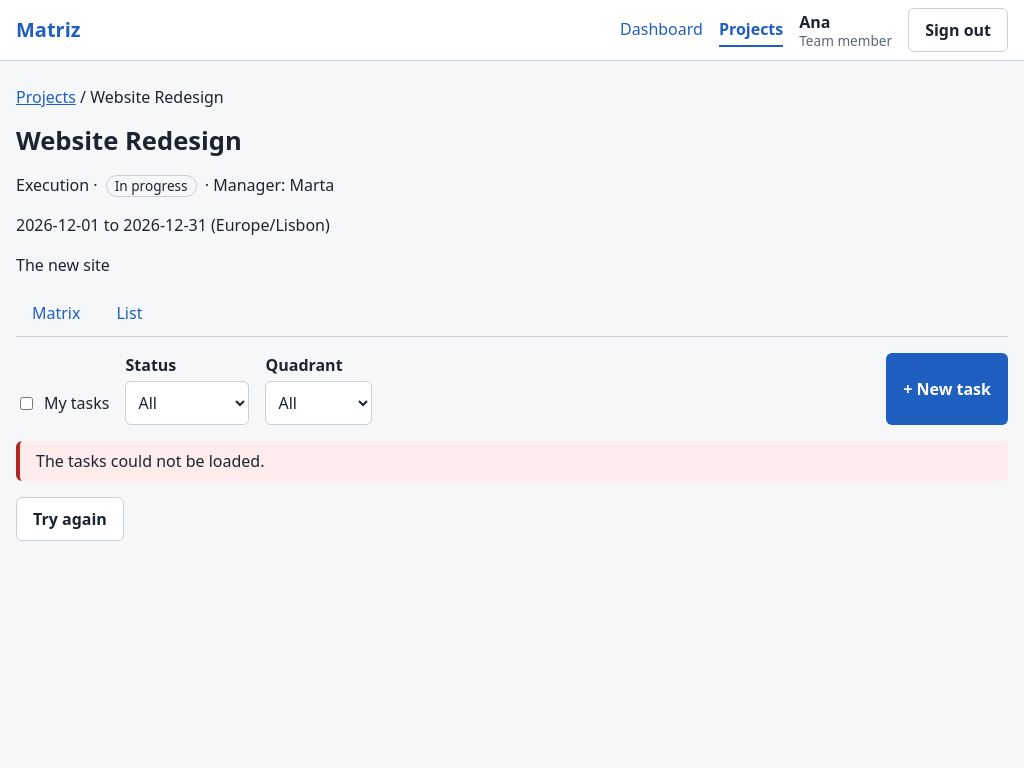
Test: the project and its tasks (F02, F04, F05, F22) › shows the message of the API and tries again when the tasks cannot be loaded
Check: the message reads "The tasks could not be loaded.", box [36, 450, 264, 472]
Click the button "Try again" at (70, 519), box [16, 497, 124, 541]
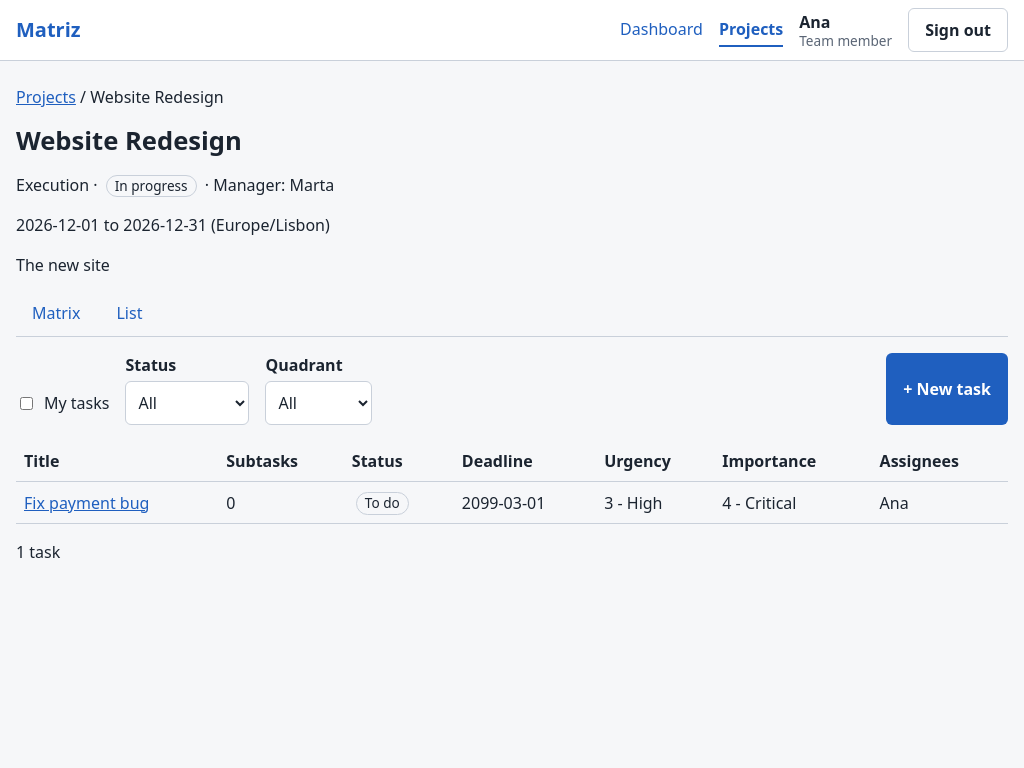
Check: the link "Fix payment bug" is shown, box [24, 492, 149, 514]
